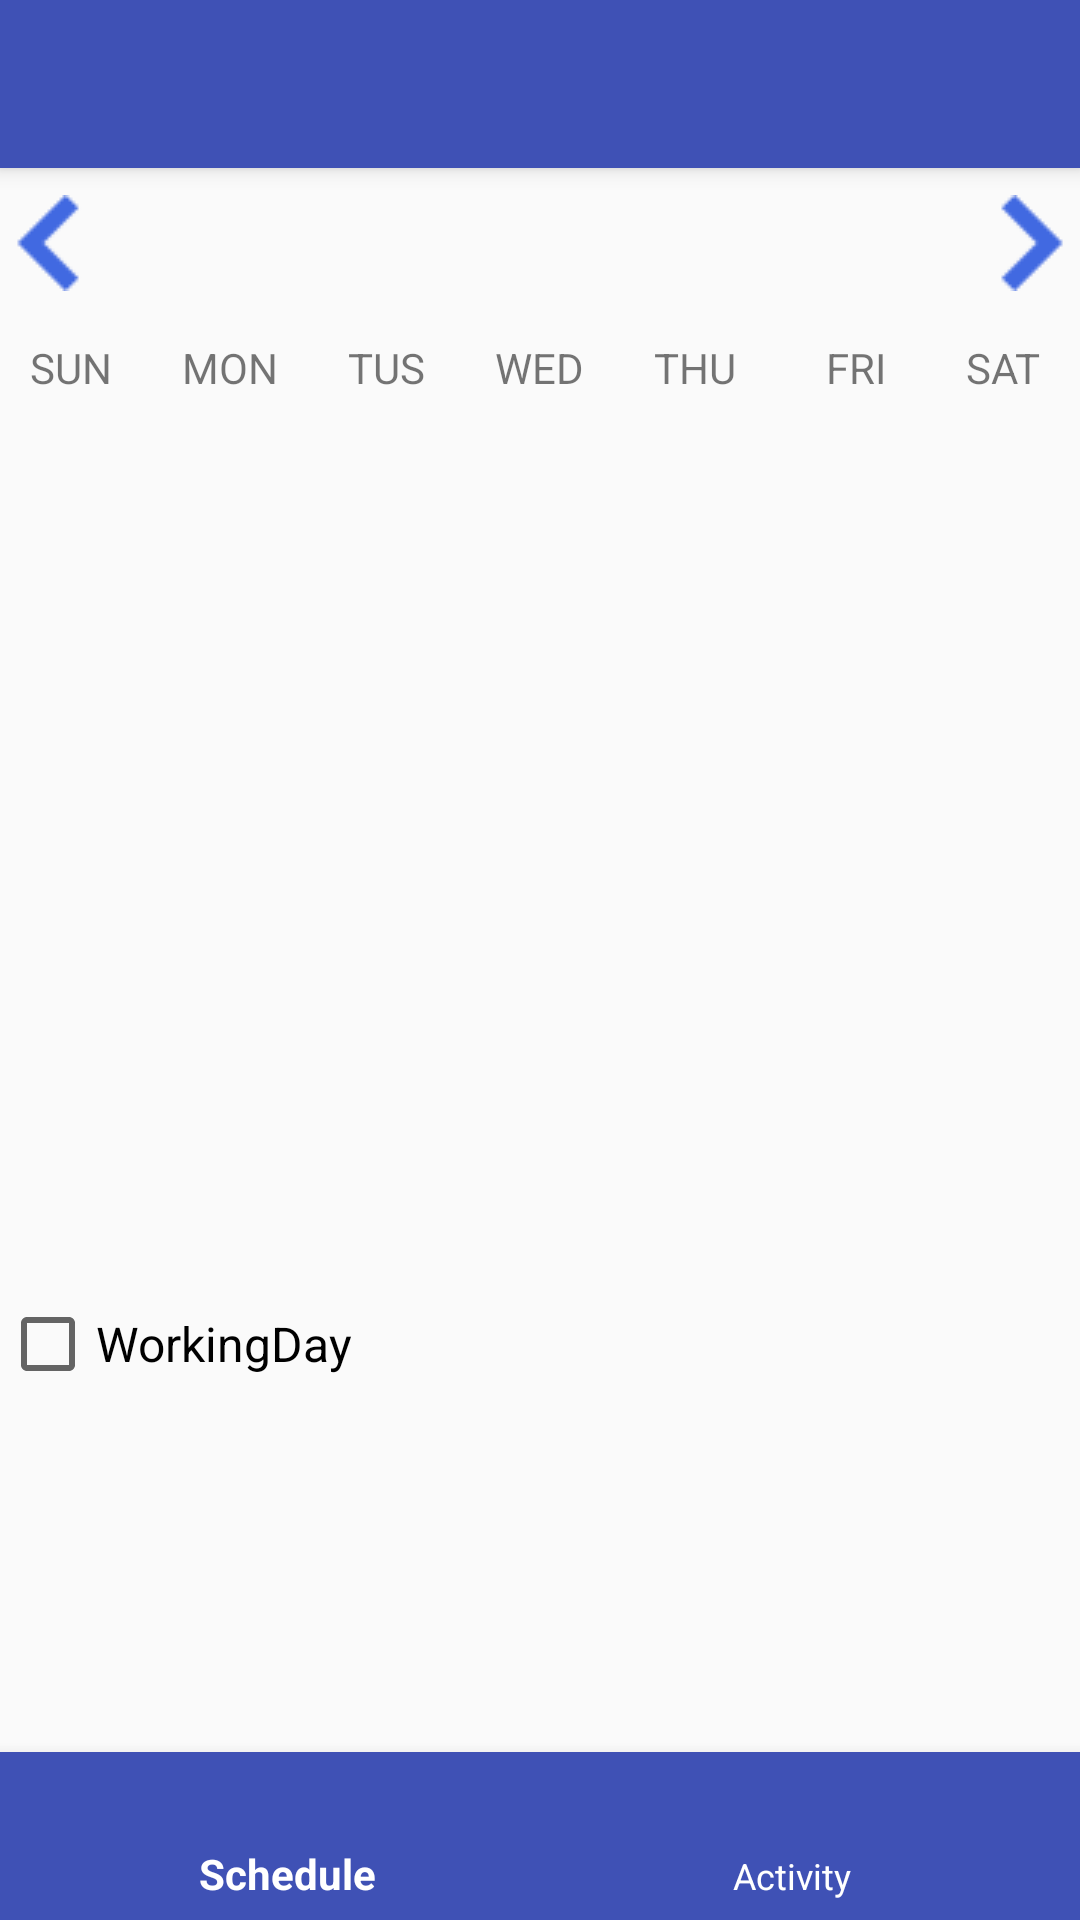

Icon click points for this 1080x1920 phone screenshot, format (x,y):
arrow: (48,243), (1032,243)
